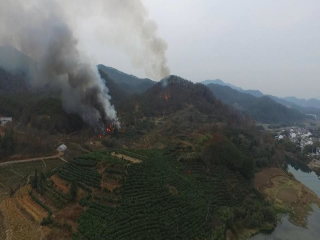smoke: (1, 9, 176, 141)
